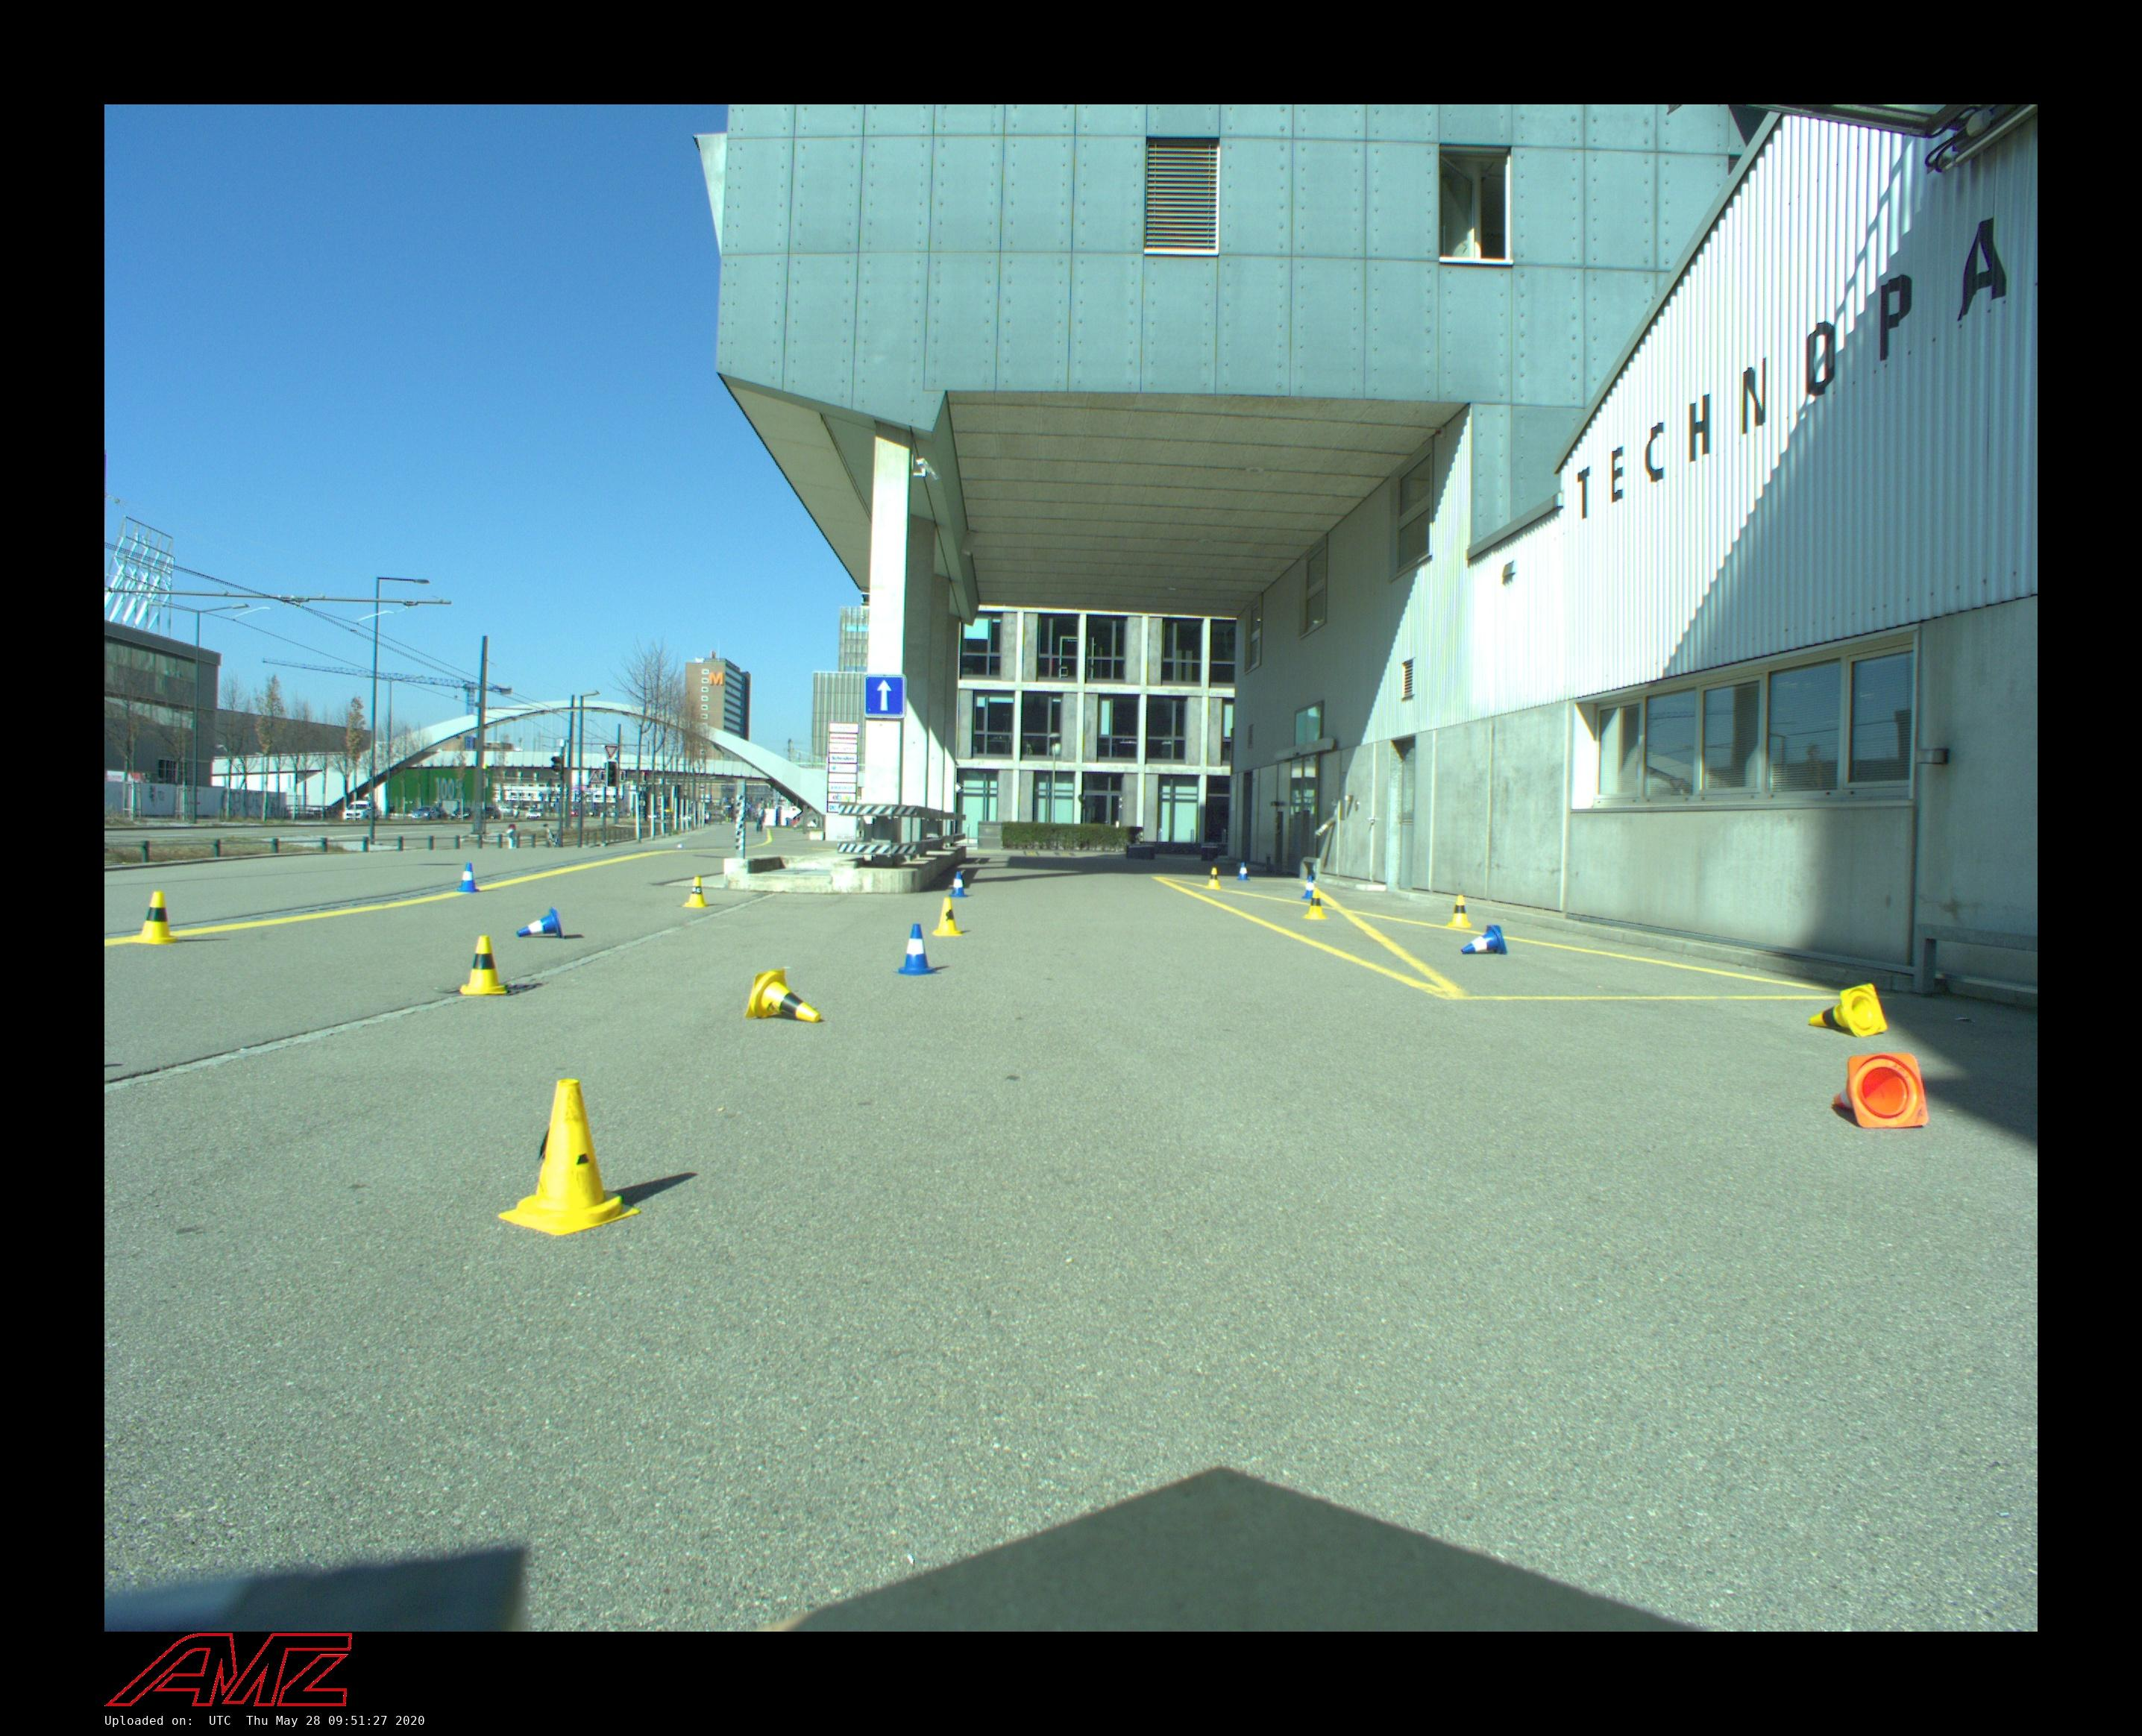blue_cone: (895, 925, 939, 976), (516, 907, 563, 939), (1462, 925, 1508, 955), (455, 863, 482, 893), (948, 872, 967, 896), (1302, 875, 1315, 900), (1237, 863, 1251, 880)
orange_cone: (1834, 1052, 1929, 1128)
yellow_cone: (498, 1081, 640, 1236), (1809, 983, 1887, 1038), (744, 969, 820, 1024), (459, 935, 507, 996), (131, 891, 179, 944), (932, 896, 962, 935), (1446, 895, 1472, 928), (682, 877, 709, 909), (1302, 889, 1327, 919), (1207, 868, 1221, 889)
